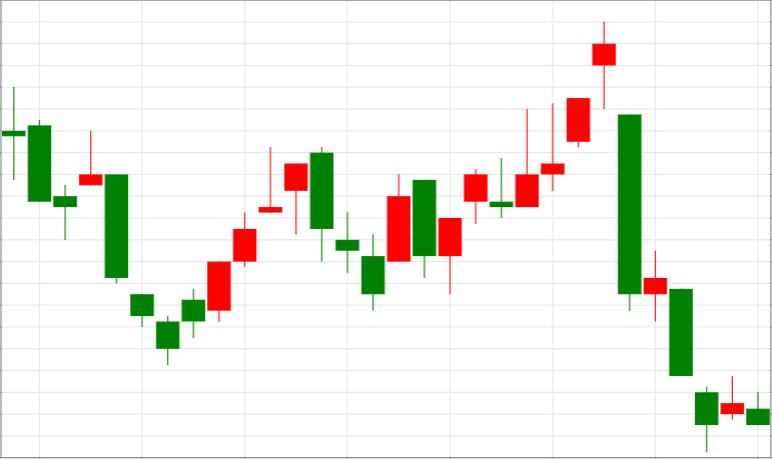bearish_engulfing_fall: (157, 146, 334, 365)
evening_star_fall: (439, 22, 642, 312)
hanging_man_fall: (157, 146, 307, 366)
